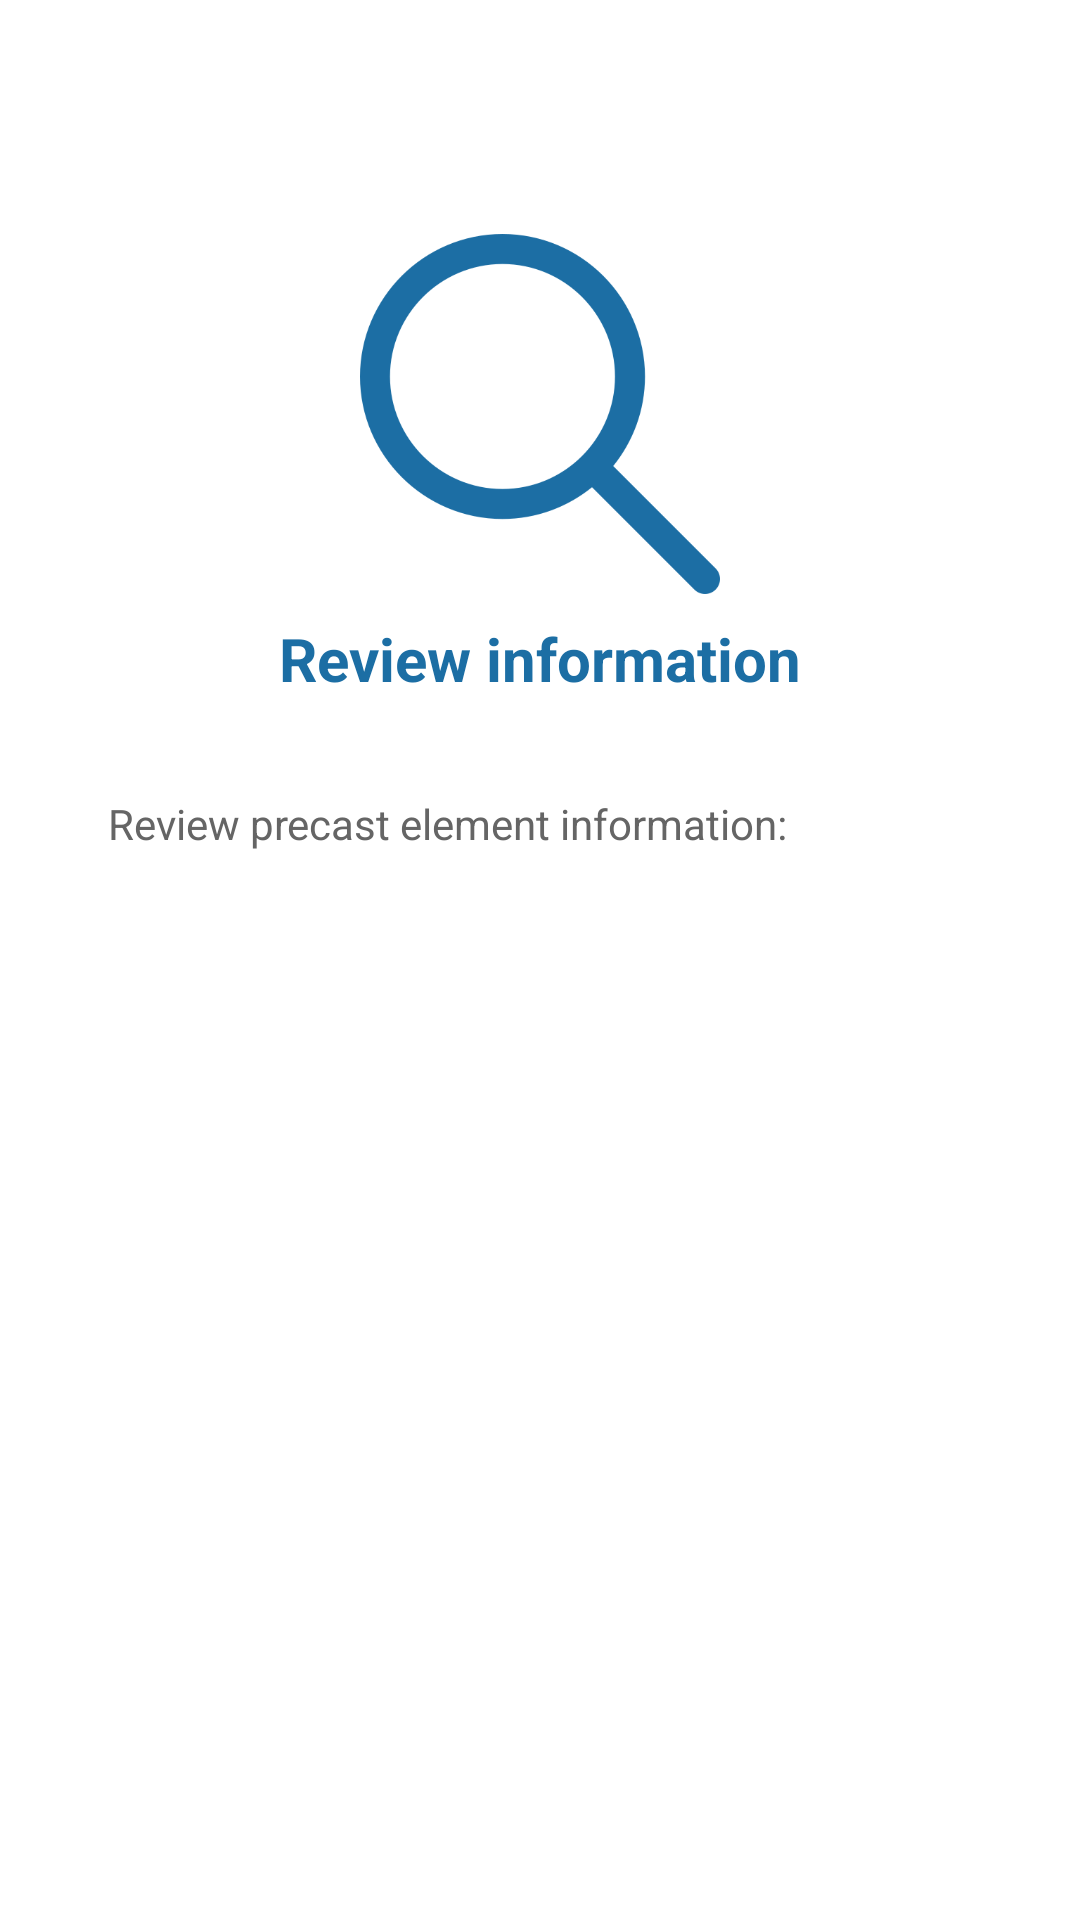

Point at icon controls on the screen. Image size 1080px x 1920px, points as (x,y).
loupe: (540,414)
